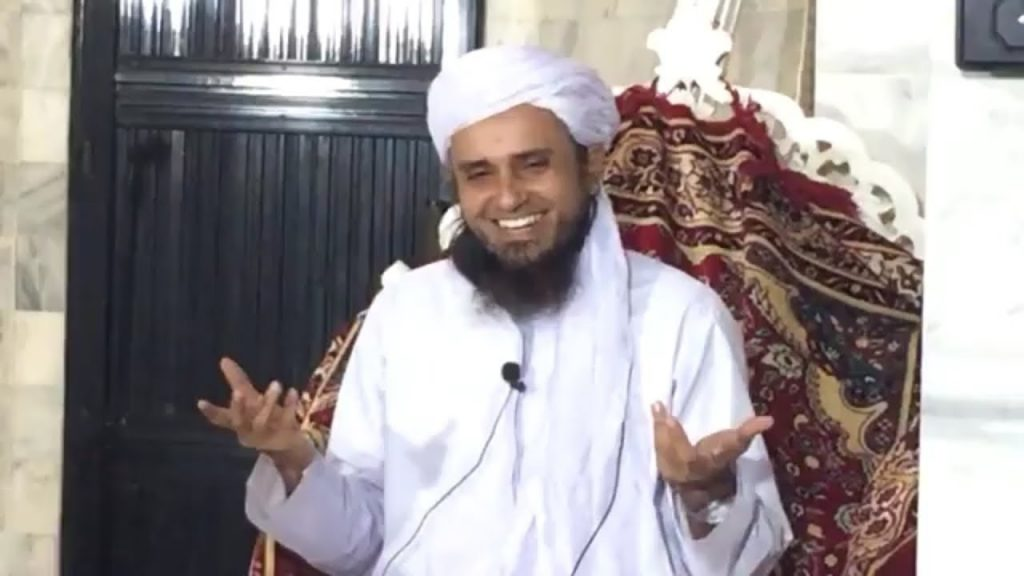NoMask: (460, 142, 570, 274)
